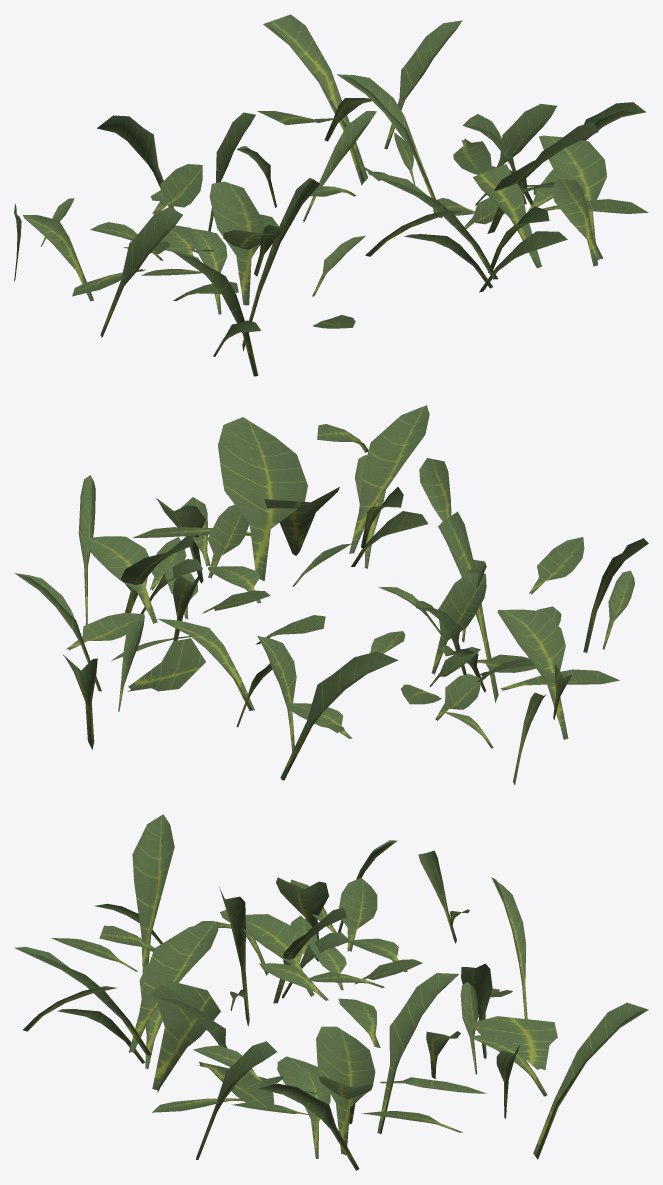
Rendered from weed_02_001.gltf.
The picture shows the model from 3 angles, top to bottom: view 1: azimuth 30°, elevation 25°; view 2: azimuth 150°, elevation 25°; view 3: azimuth 270°, elevation 25°; orthographic projection.
Parts seen in each view (by area): view 1: weed 02.001; view 2: weed 02.001; view 3: weed 02.001.
Part boxes in pixels (<box>): weed 02.001: <box>14,14,648,376</box>; weed 02.001: <box>14,405,648,785</box>; weed 02.001: <box>15,814,648,1170</box>.
Bounding box in the file's own units: 0.3643 × 0.1165 × 0.3628.
